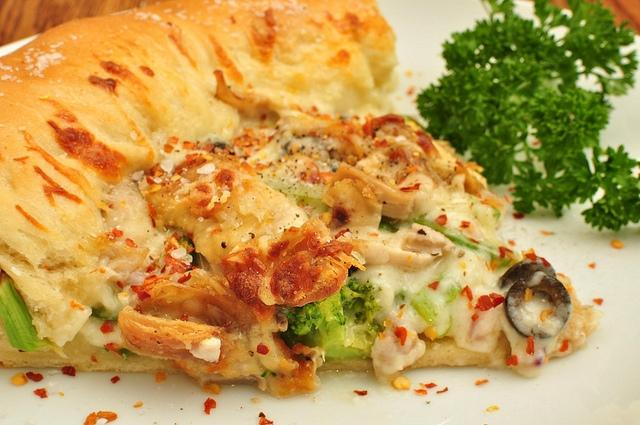broccoli: (378, 214, 512, 267), (282, 292, 371, 362), (0, 272, 52, 352), (410, 273, 462, 324)
hot pepper: (474, 295, 494, 311), (394, 326, 407, 346), (204, 398, 216, 415), (26, 371, 44, 382), (526, 336, 535, 354), (33, 388, 48, 398), (61, 366, 76, 376), (256, 345, 270, 355), (507, 356, 518, 366), (354, 390, 368, 396), (110, 375, 120, 383)
